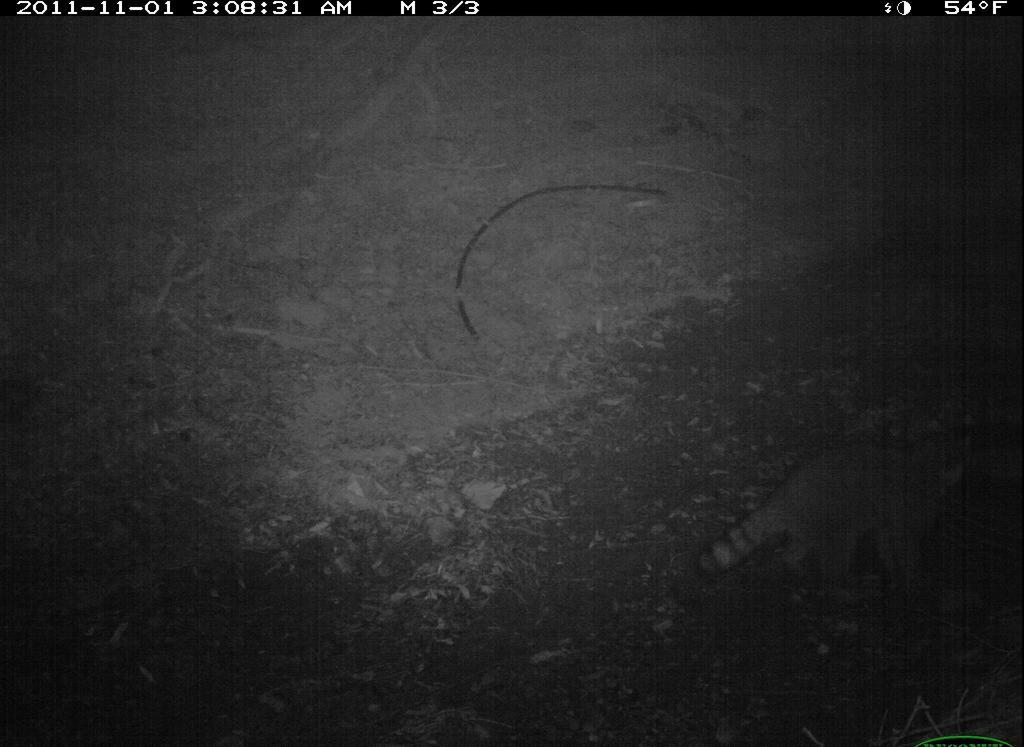raccoon: (690, 428, 991, 610)
